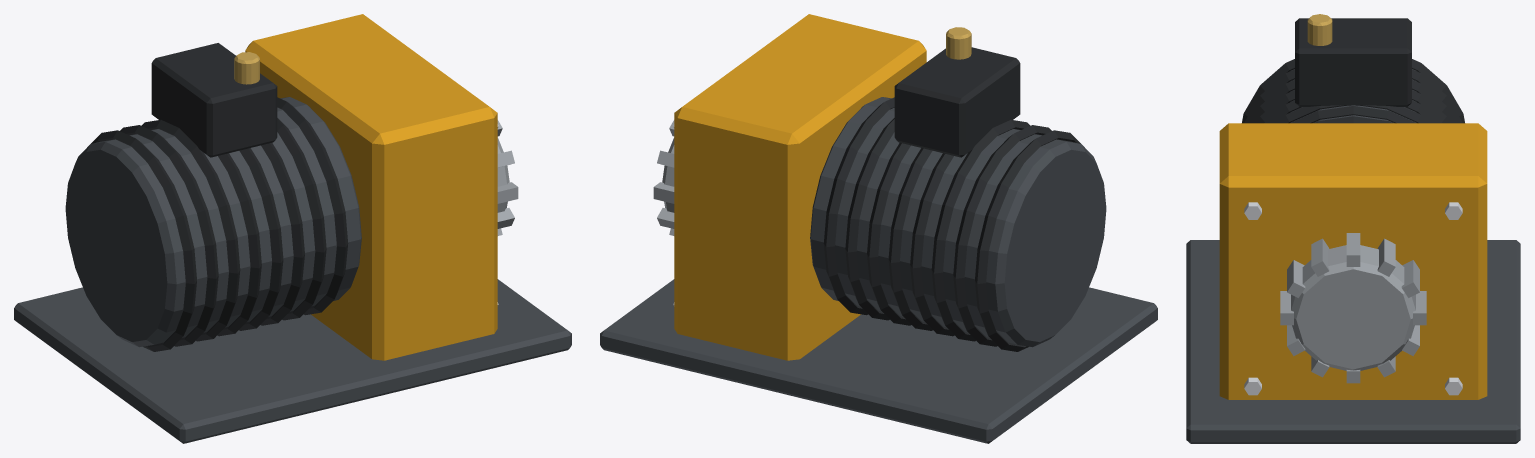
The model's file is door_motor.glb.
3 views of the same model, side by side, from view 1: azimuth 30°, elevation 25°; view 2: azimuth 150°, elevation 25°; view 3: azimuth 270°, elevation 25° (orthographic).
Visible parts, largest first — view 1: base, pinion; view 2: base, pinion; view 3: base, pinion.
Boxes of the visible parts, bbox=[...] form: base: bbox=[14, 14, 571, 443]; pinion: bbox=[497, 120, 518, 235]; base: bbox=[600, 14, 1157, 443]; pinion: bbox=[653, 120, 674, 235]; base: bbox=[1186, 14, 1520, 443]; pinion: bbox=[1280, 233, 1426, 383].
Bounding box in the file's own units: 0.4 × 0.3 × 0.3.
